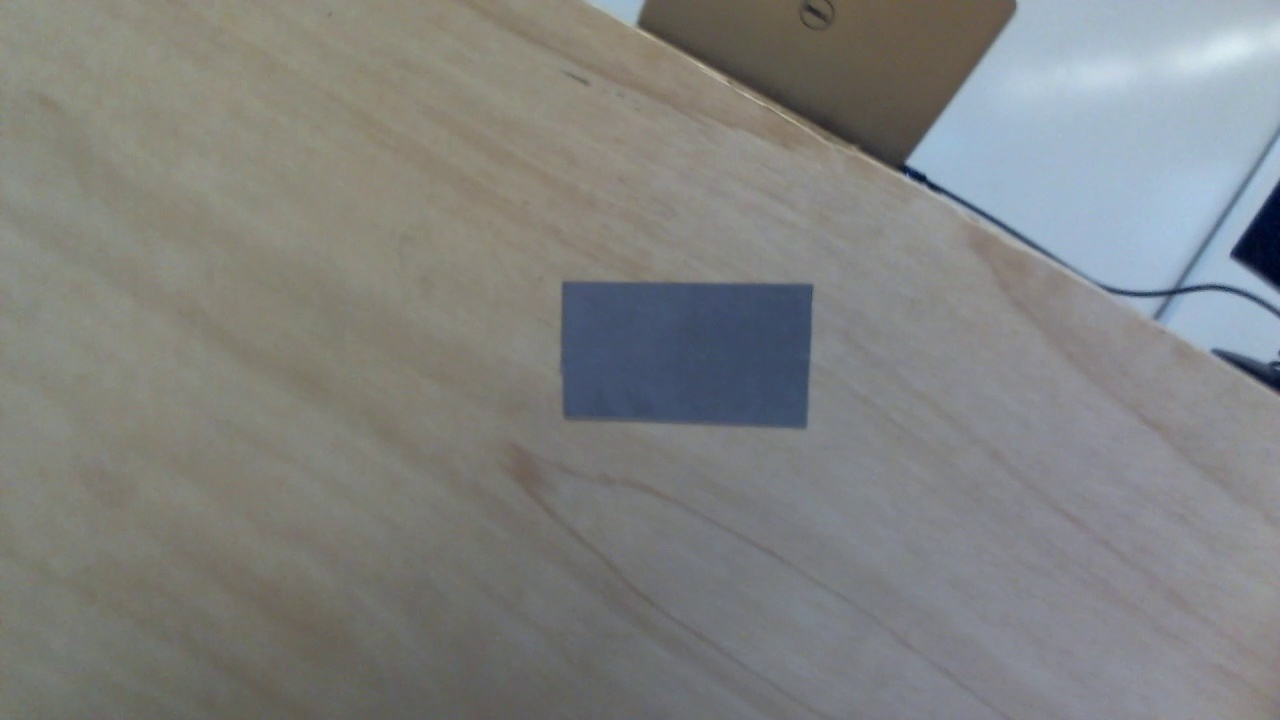Tape: (562, 282, 814, 429)
